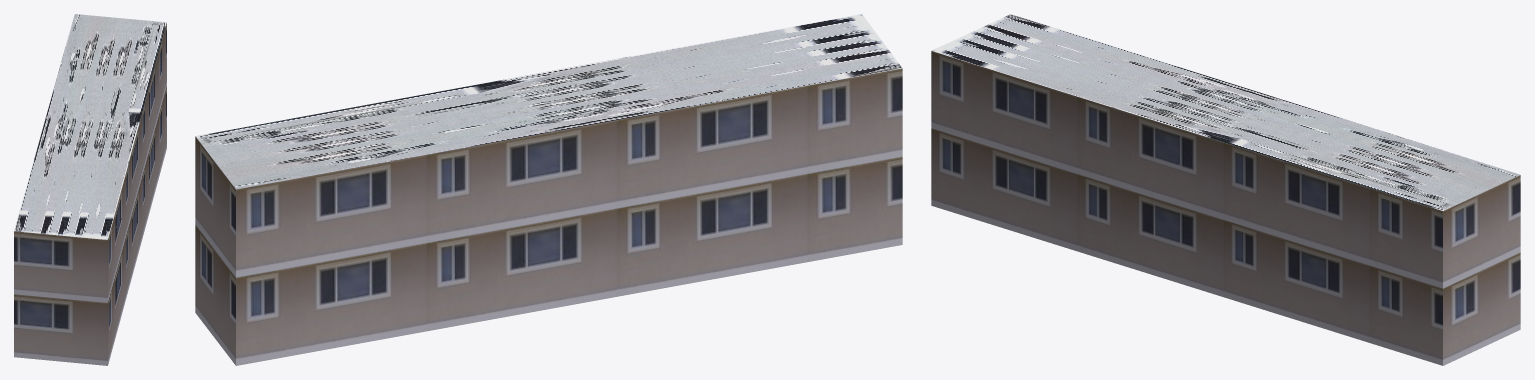
Rendered from ResTex__213.fbx.
3 views of the same model, side by side, from view 1: azimuth 30°, elevation 25°; view 2: azimuth 150°, elevation 25°; view 3: azimuth 270°, elevation 25° (orthographic). The views are drawn at different scales.
Visible parts, largest first — view 1: CityEngineMaterial_m, CityEngineMaterial_21_m; view 2: CityEngineMaterial_21_m, CityEngineMaterial_m; view 3: CityEngineMaterial_21_m, CityEngineMaterial_m.
Boxes of the visible parts, left/top/right/bottom form: CityEngineMaterial_m: left=14, top=14, right=166, bottom=239; CityEngineMaterial_21_m: left=14, top=23, right=166, bottom=365; CityEngineMaterial_21_m: left=195, top=68, right=902, bottom=365; CityEngineMaterial_m: left=196, top=14, right=901, bottom=189; CityEngineMaterial_21_m: left=931, top=51, right=1520, bottom=365; CityEngineMaterial_m: left=931, top=14, right=1520, bottom=210.
Size of the model in its own units: 16.39 by 6 by 20.71.
2 materials, 2 textured.
